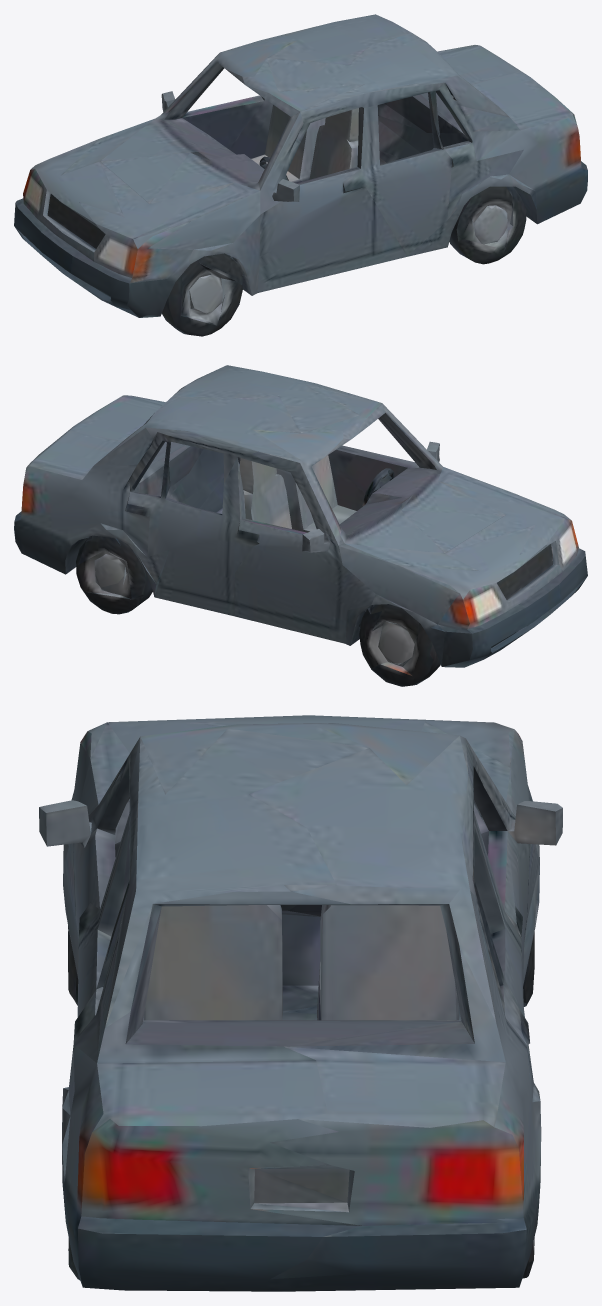
Rendered from sedan.glb.
3 renders of one model, top to bottom at view 1: azimuth 30°, elevation 25°; view 2: azimuth 150°, elevation 25°; view 3: azimuth 270°, elevation 25°, orthographic. The views are drawn at different scales.
Bounding box in the file's own units: 1.9 × 0.7299 × 0.8897.
Materials: 1 (1 with a texture image).
